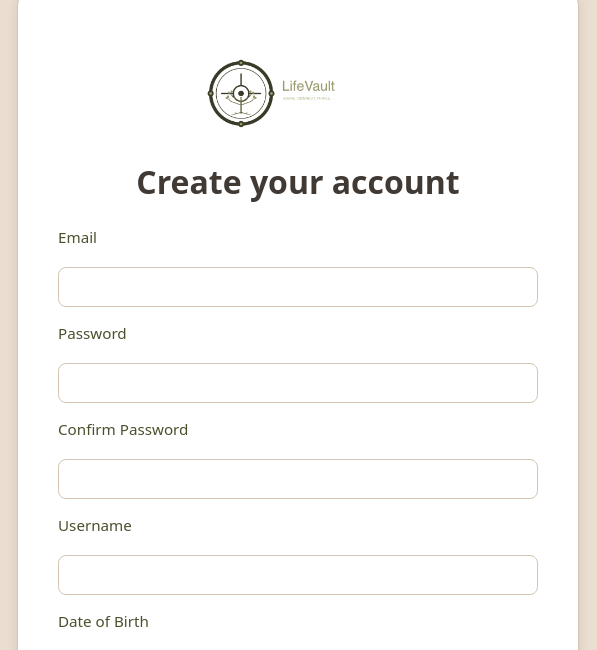
it: Signup Page › When user types a password less than 8 characters long an error occurs.
Type "test@email.com" into the field labelled "Email" at (298, 287), box x1=58 y1=267 x2=538 y2=307
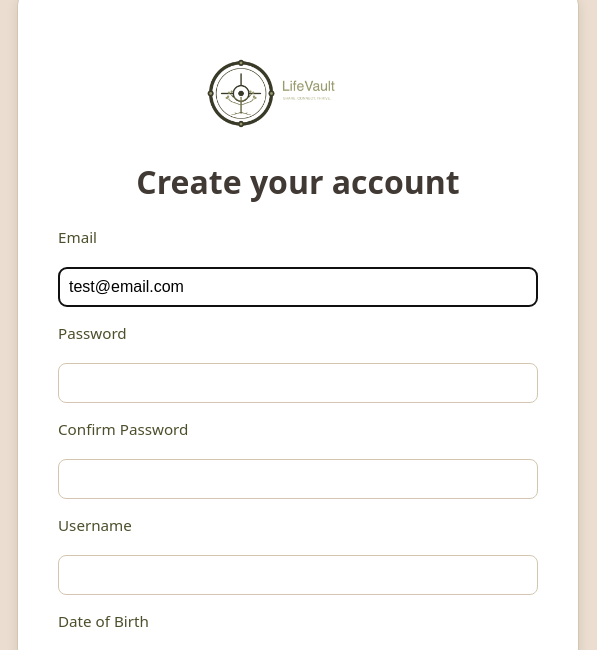
Type "Hello!1" into the password field labelled "Password" at (298, 383), box x1=58 y1=363 x2=538 y2=403
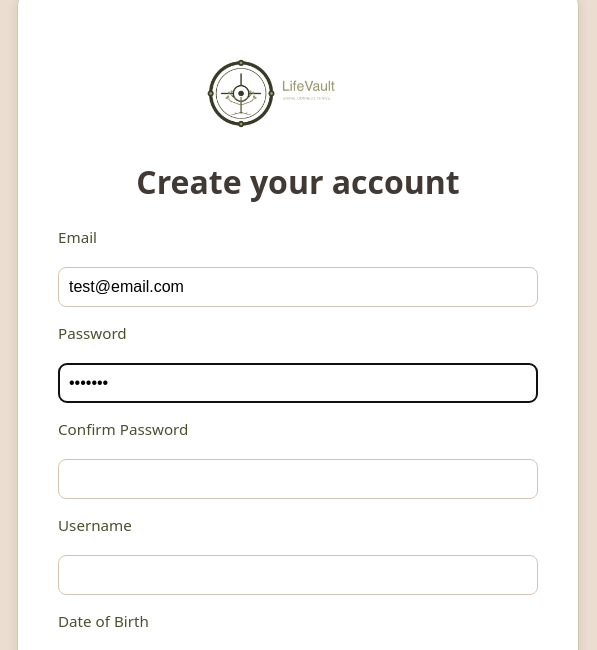
Type "Hello!1" into the password field labelled "Confirm Password" at (298, 479), box x1=58 y1=459 x2=538 y2=499
(page scrolled)
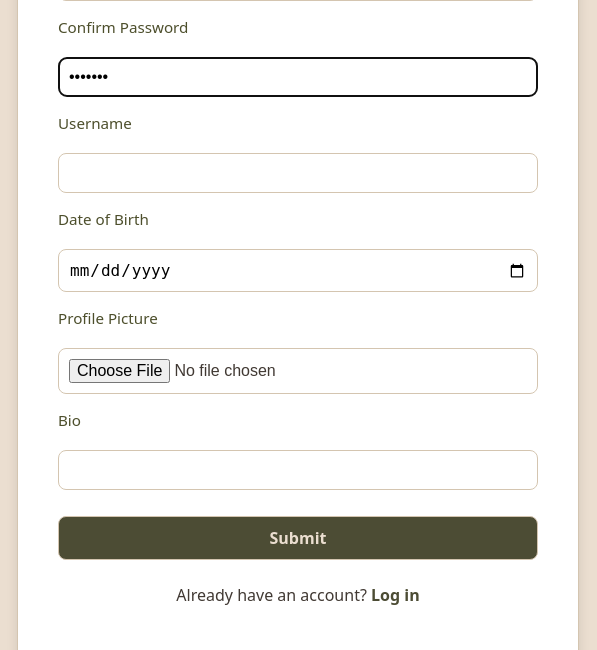
Click the button at (298, 538), box x1=58 y1=516 x2=538 y2=560
(page scrolled)
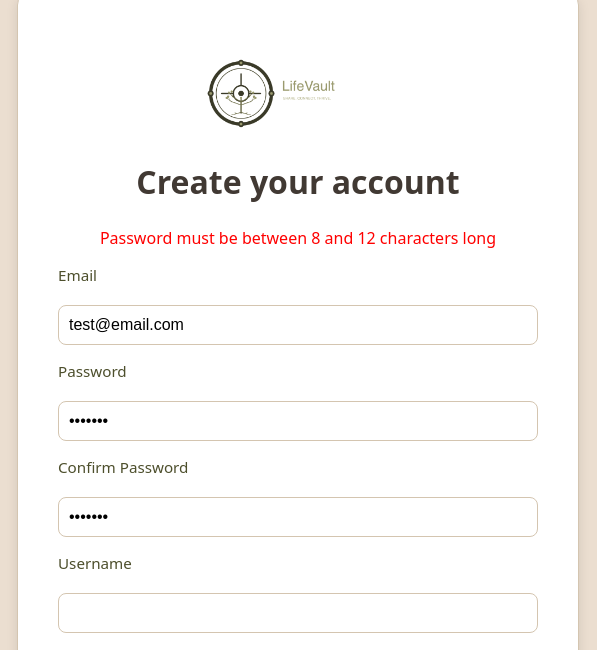
Expected: the text "Password must be between 8 and 12 characters long" is shown, x1=100 y1=227 x2=496 y2=249
